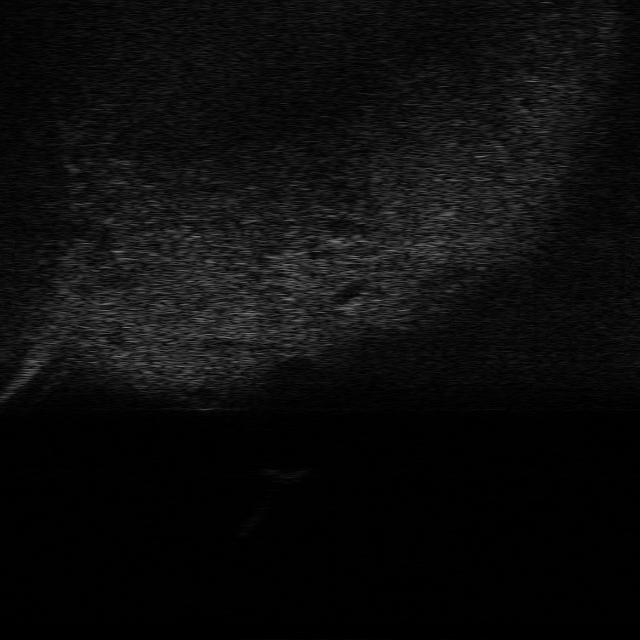cube: (262, 456, 314, 484)
